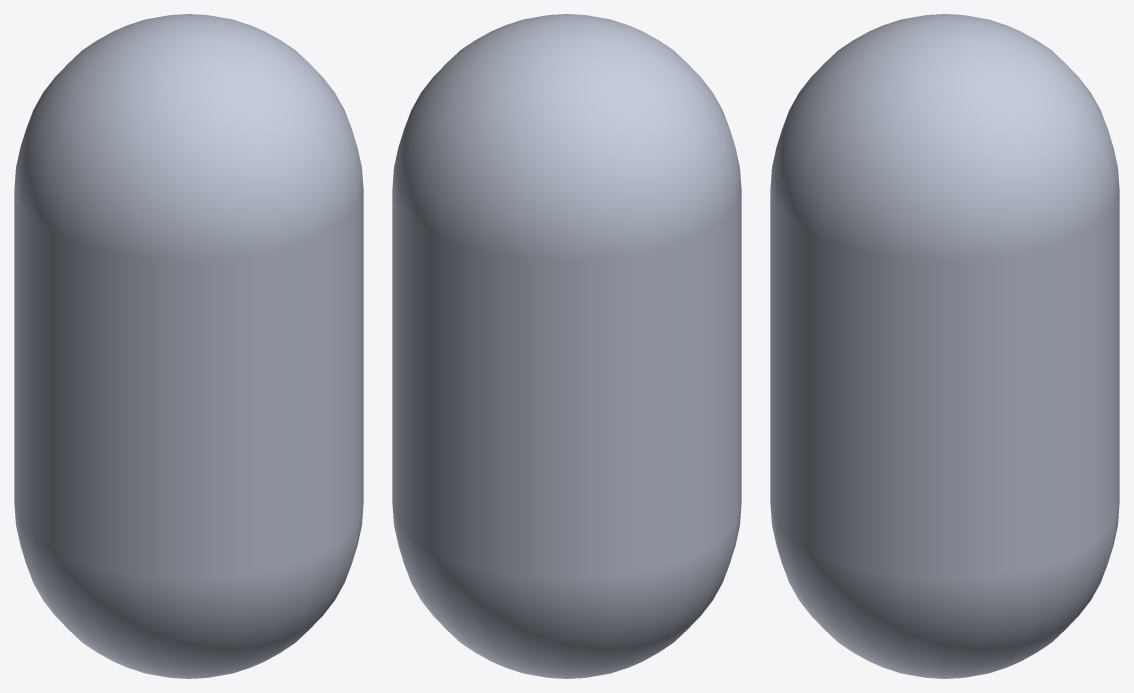
File: silver-capsule.glb
The picture shows the model from 3 angles, left to right: view 1: azimuth 30°, elevation 25°; view 2: azimuth 150°, elevation 25°; view 3: azimuth 270°, elevation 25°; orthographic projection.
Visible parts, largest first — view 1: Silver Capsule; view 2: Silver Capsule; view 3: Silver Capsule.
Part boxes in pixels (left/top/right/bottom): Silver Capsule: left=14, top=14, right=363, bottom=678; Silver Capsule: left=392, top=14, right=741, bottom=678; Silver Capsule: left=770, top=14, right=1119, bottom=678.
Size of the model in its own units: 0.7 by 1.4 by 0.7.
